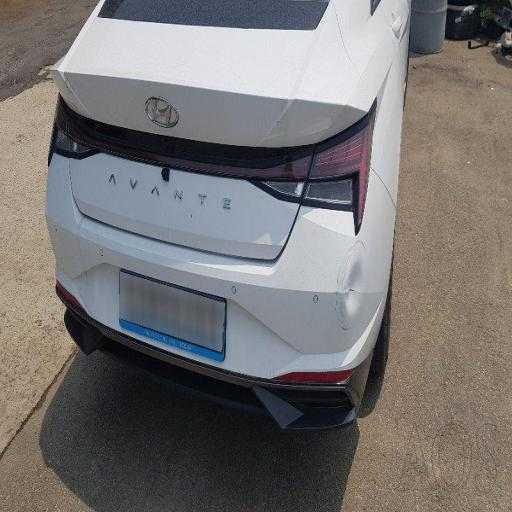dent: (72, 235, 298, 396), (334, 232, 375, 354)
